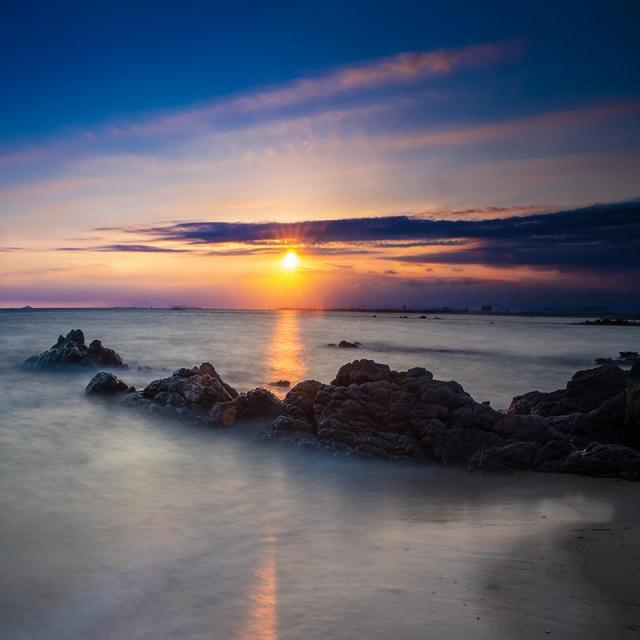reef: (58, 314, 640, 534)
